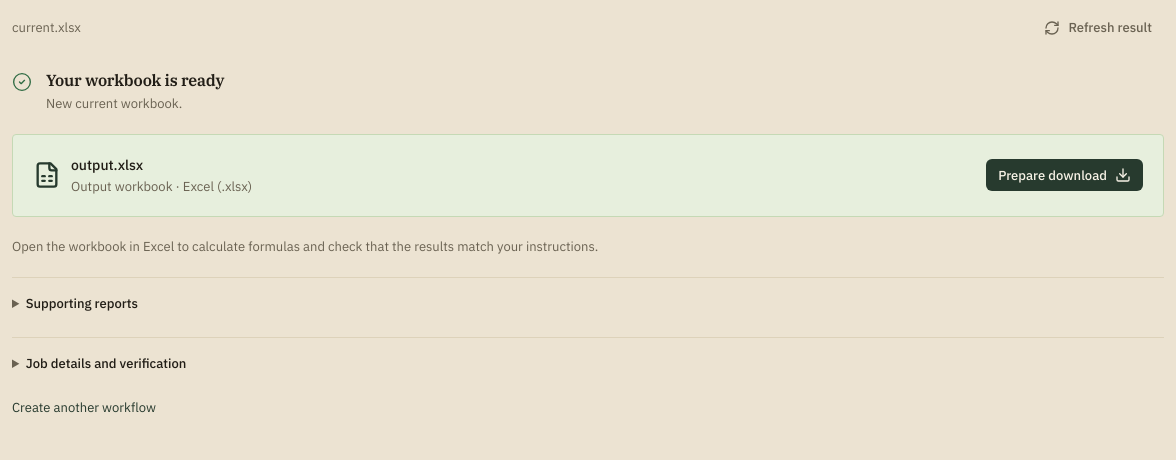
Test: clears a previously generated link when refreshing authoritative job state
The width and height of the screenshot is (1176, 460).
Step 1. Click the button "Prepare download" → (1065, 175), box [986,159,1143,191]
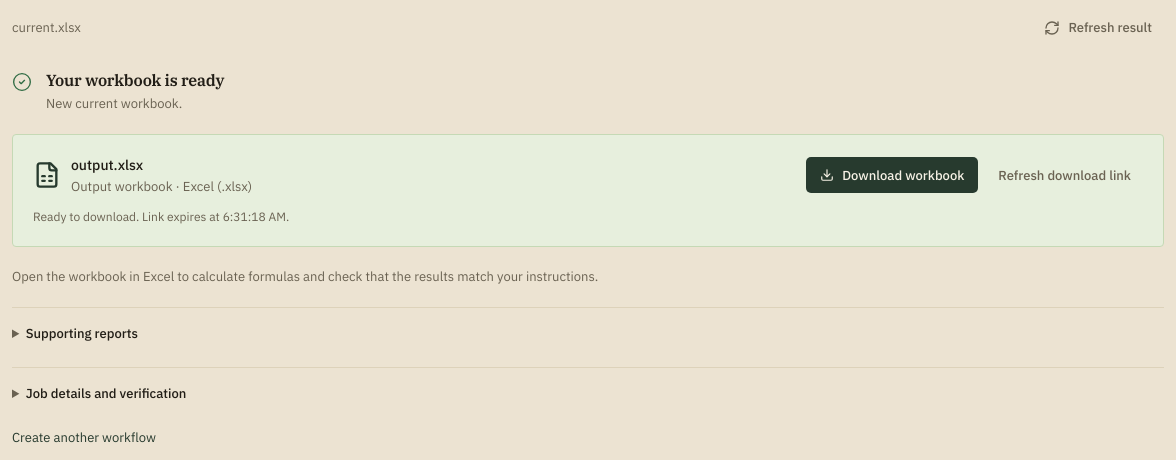
Step 2. Click the button "Refresh result" → (1098, 28), box [1032,12,1164,44]
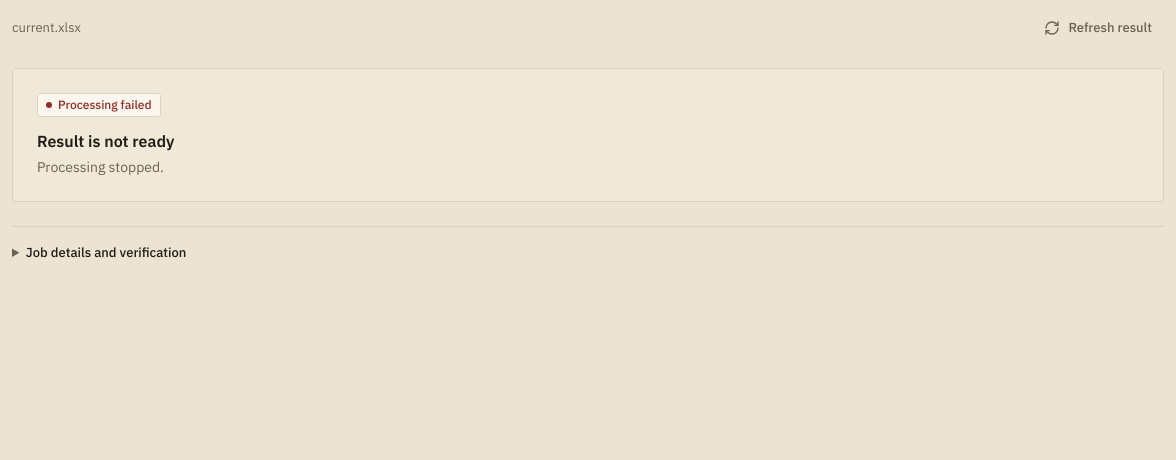
Expected: the text "failed" is shown, [58,97,152,112]
